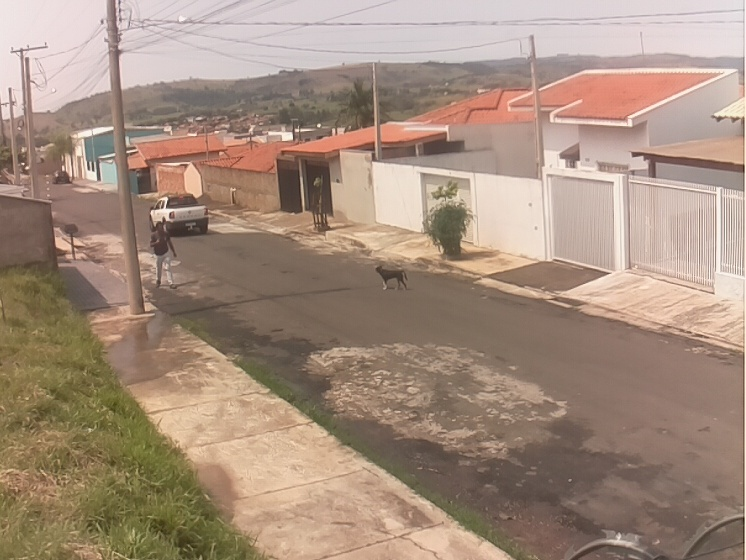person: (149, 222, 179, 290)
